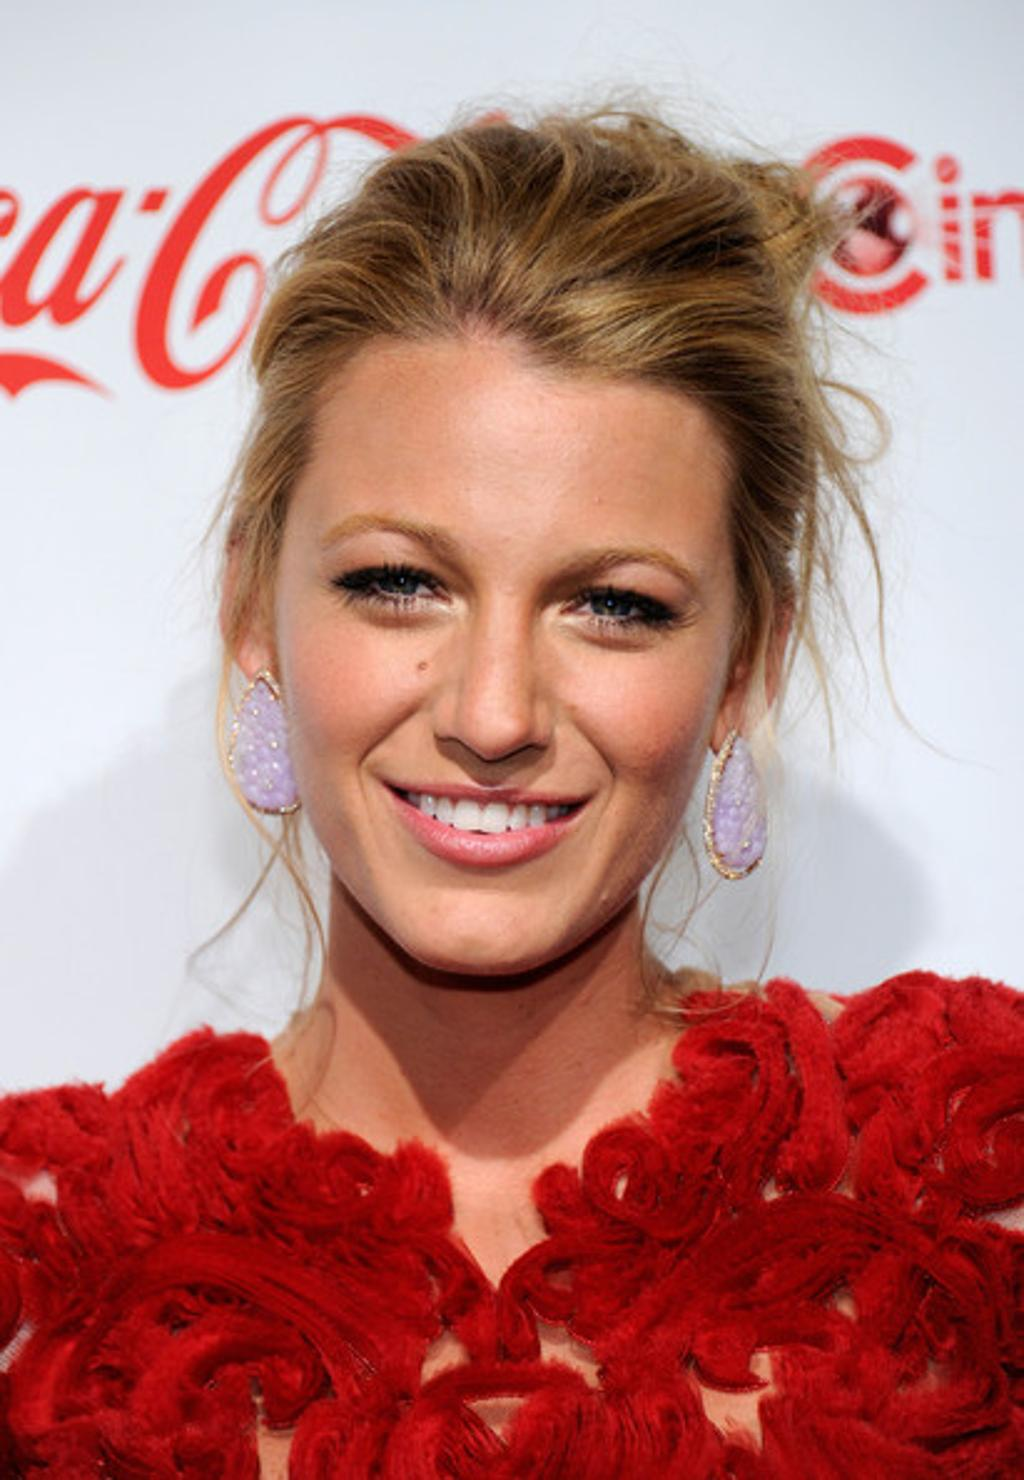face: (272, 330, 738, 969)
